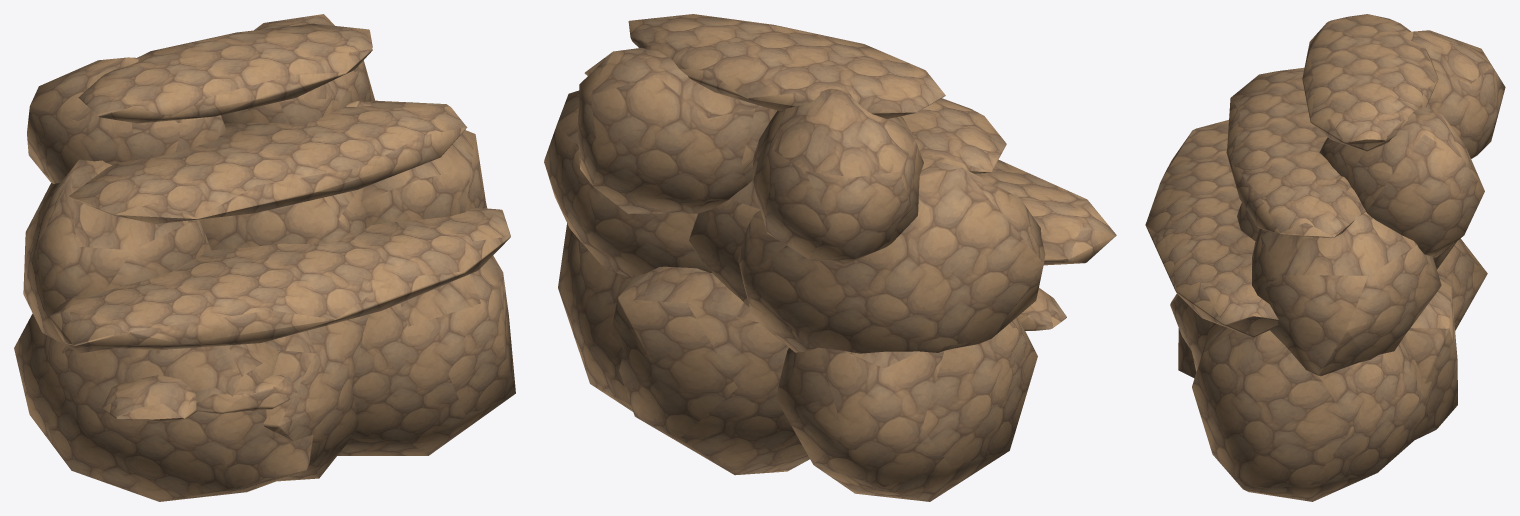
Rendered from cliff_wall.gltf.
3 views of the same model, side by side, from view 1: azimuth 30°, elevation 25°; view 2: azimuth 150°, elevation 25°; view 3: azimuth 270°, elevation 25° (orthographic). The views are drawn at different scales.
Visible parts, largest first — view 1: cliff_wall; view 2: cliff_wall; view 3: cliff_wall.
Part boxes in pixels (x1=…): cliff_wall: x1=14, y1=14, x2=515, y2=501; cliff_wall: x1=544, y1=14, x2=1116, y2=501; cliff_wall: x1=1145, y1=14, x2=1505, y2=501.
Size of the model in its own units: 10.9 by 9.26 by 7.72.
1 material, 1 textured.
